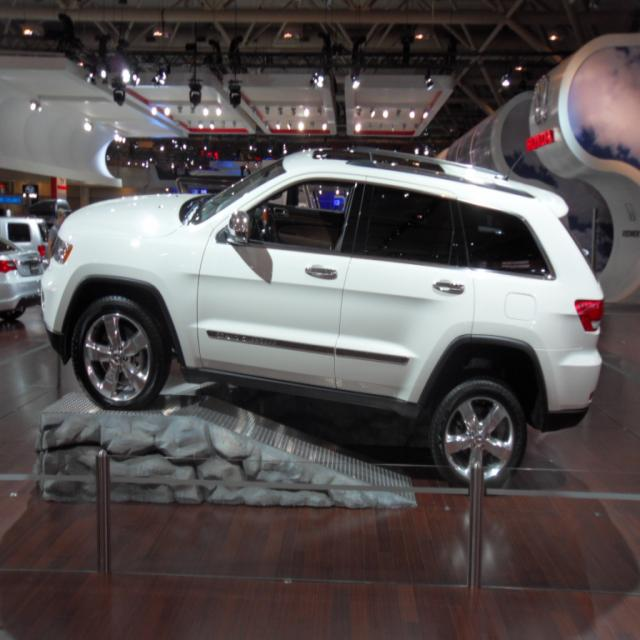car: (41, 145, 618, 491)
